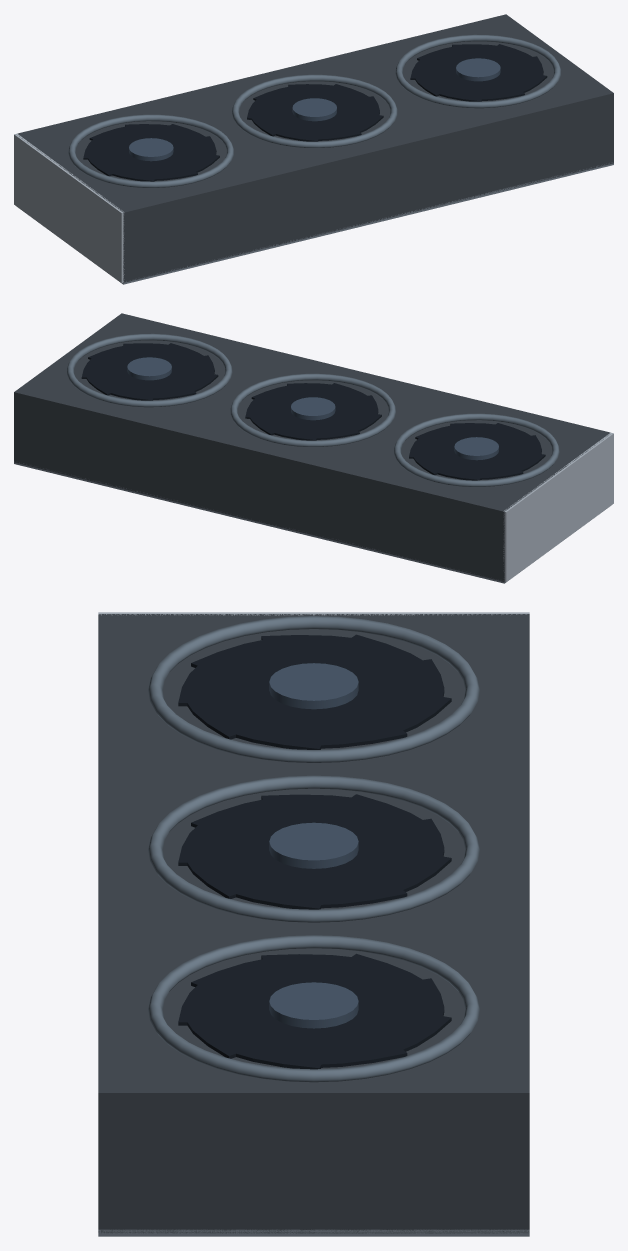
Rendered from retail-zotac-gaming-geforce-rtx-5070-solid.glb.
3 renders of one model, top to bottom at view 1: azimuth 30°, elevation 25°; view 2: azimuth 150°, elevation 25°; view 3: azimuth 270°, elevation 25°, orthographic. The views are drawn at different scales.
Parts seen in each view (by area): view 1: Cooler shroud, Cooler blade (×27), Bracket, Fan rim (×3), Fan hub (×3), Backplate; view 2: Cooler shroud, Cooler blade (×27), Bracket, Fan rim (×3), Fan hub (×3), Backplate; view 3: Cooler shroud, Cooler blade (×27), Fan rim (×3), Fan hub (×3), Backplate, Bracket.
Part boxes in pixels (left/top/right/bottom): Cooler shroud: left=17, top=14, right=613, bottom=282; Cooler blade (×27): left=83, top=44, right=547, bottom=181; Bracket: left=14, top=133, right=124, bottom=283; Fan rim (×3): left=68, top=34, right=561, bottom=187; Fan hub (×3): left=129, top=58, right=500, bottom=161; Backplate: left=28, top=162, right=613, bottom=284; Cooler shroud: left=14, top=313, right=610, bottom=581; Cooler blade (×27): left=81, top=343, right=545, bottom=480; Bracket: left=503, top=432, right=613, bottom=582; Fan rim (×3): left=66, top=333, right=559, bottom=486; Fan hub (×3): left=127, top=357, right=498, bottom=460; Backplate: left=14, top=461, right=599, bottom=583; Cooler shroud: left=98, top=614, right=529, bottom=1233; Cooler blade (×27): left=178, top=634, right=451, bottom=1069; Fan rim (×3): left=148, top=616, right=479, bottom=1082; Fan hub (×3): left=269, top=663, right=358, bottom=1028; Backplate: left=98, top=1229, right=529, bottom=1236; Bracket: left=98, top=612, right=529, bottom=615.
Bounding box in the file's own units: 0.3054 × 0.0461 × 0.1158.
